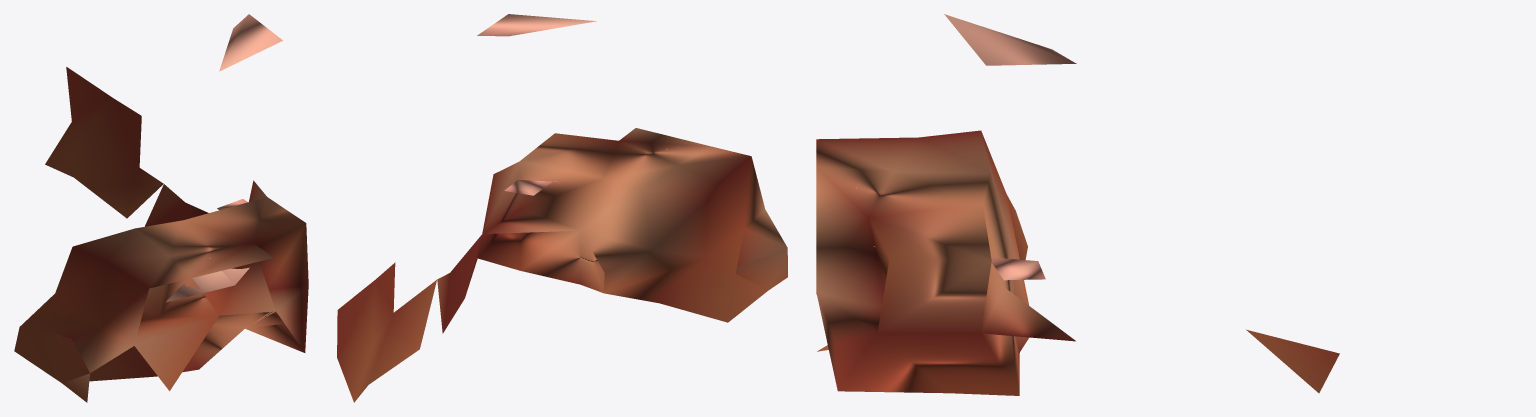
The picture shows the model from 3 angles, left to right: view 1: azimuth 30°, elevation 25°; view 2: azimuth 150°, elevation 25°; view 3: azimuth 270°, elevation 25°; orthographic projection. The views are drawn at different scales.
Visible parts, largest first — view 1: scene.l1.0.0 (×2); view 2: scene.l1.0.0 (×2); view 3: scene.l1.0.0 (×2).
Boxes of the visible parts, x1,y1,x2,y2 form: scene.l1.0.0 (×2): (14,14,308,402); scene.l1.0.0 (×2): (337,14,787,402); scene.l1.0.0 (×2): (816,14,1339,395).
Bounding box in the file's own units: 56.22 × 56.22 × 103.
